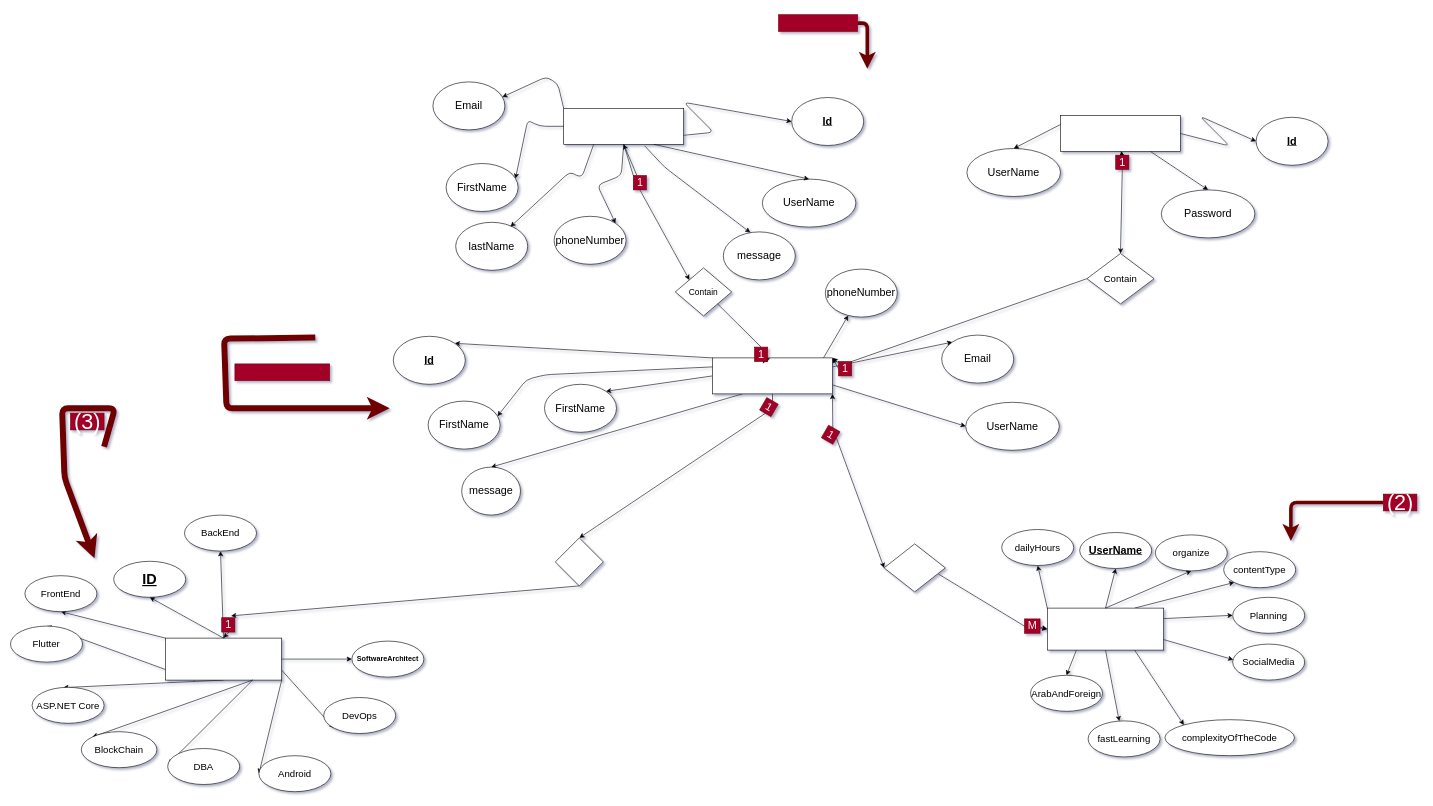
This 1433x806 diagram has some shape labels left out. The shapes that lost their labels are listed below. From the top down, each one's box as (x1, y1, x2, y2) in pixels, then its label:
(778, 14, 858, 32): Start(1)
(563, 108, 684, 144): Registration
(1060, 115, 1180, 152): Login
(234, 363, 330, 381): My-Store
(712, 357, 832, 394): Users
(555, 537, 603, 586): chosen
(884, 543, 945, 592): Solve
(1047, 608, 1164, 650): introductoryQuestions
(165, 638, 282, 680): Path
